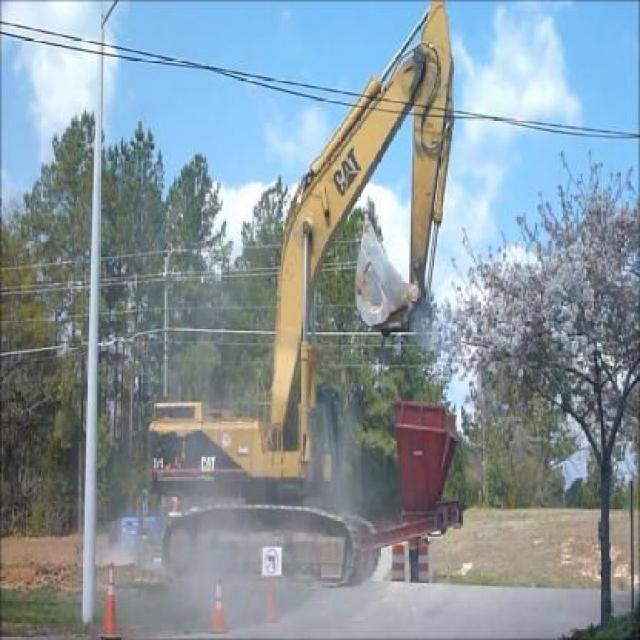Excavator: (140, 0, 458, 591)
